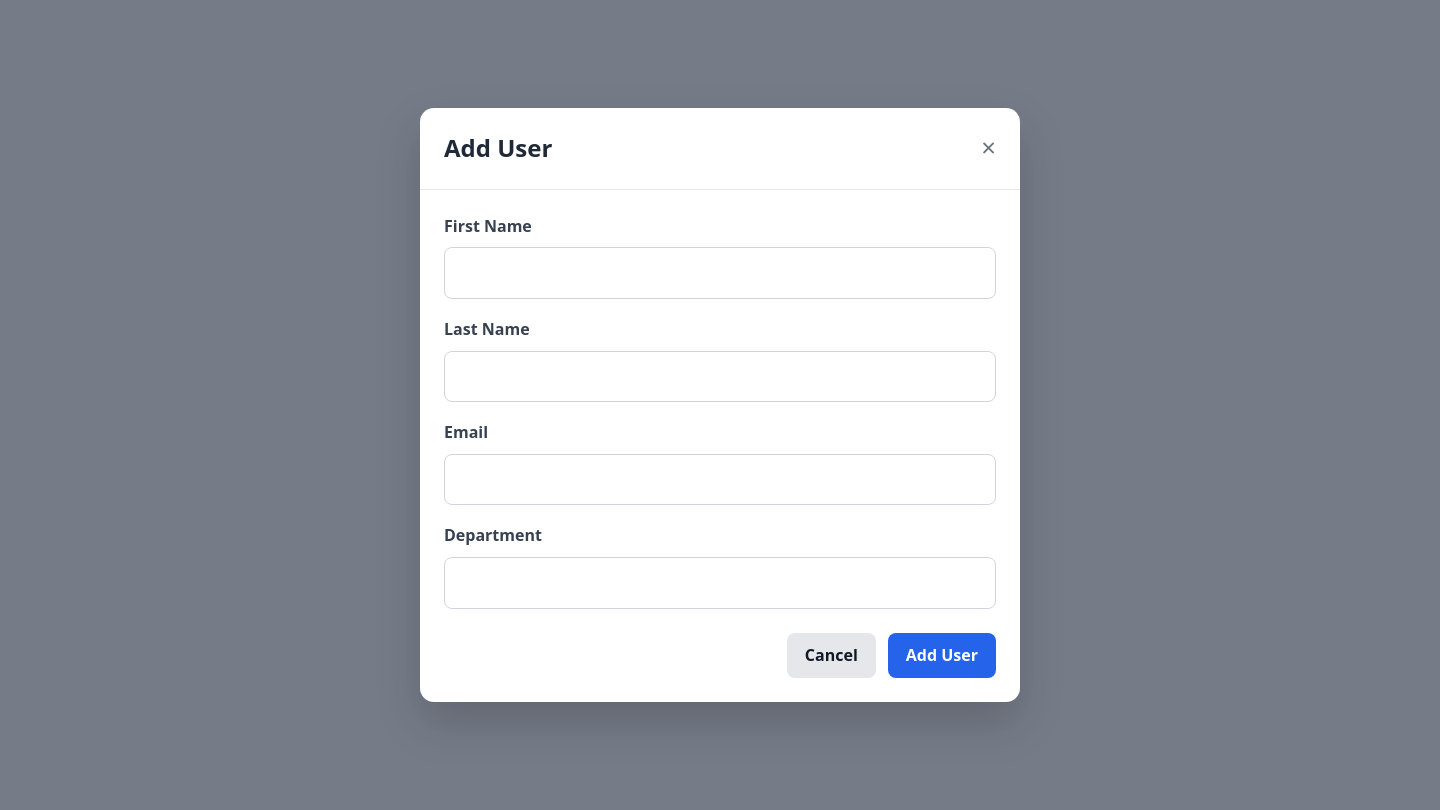
Test: UserForm › shows validation errors
Click the button "Add User". click: point(942, 655)
box: [888, 632, 996, 678]
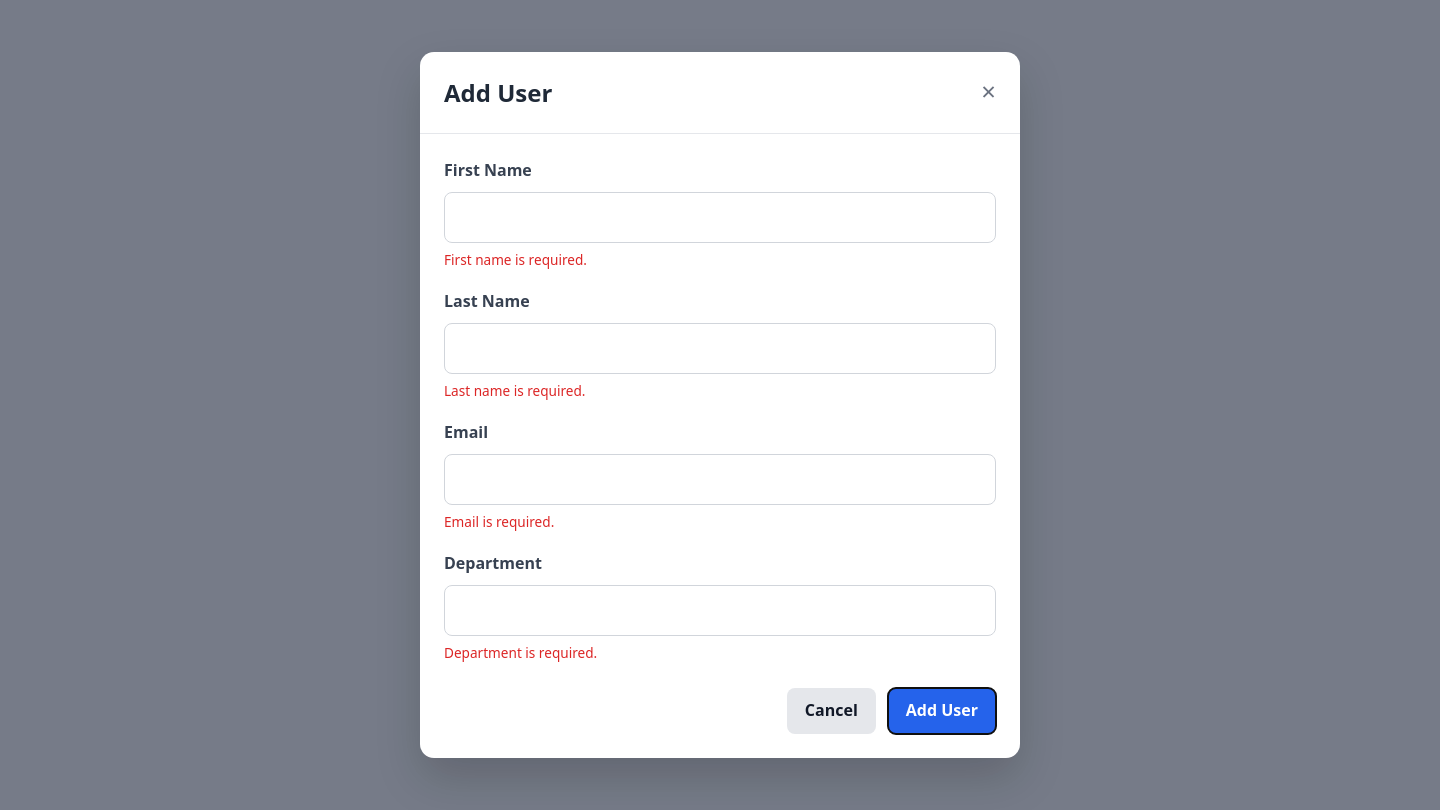
Result: the text "First name is required." is shown at [444, 250, 587, 270]
Result: the text "Last name is required." is shown at [444, 381, 586, 400]
Result: the text "Email is required." is shown at [444, 512, 554, 531]
